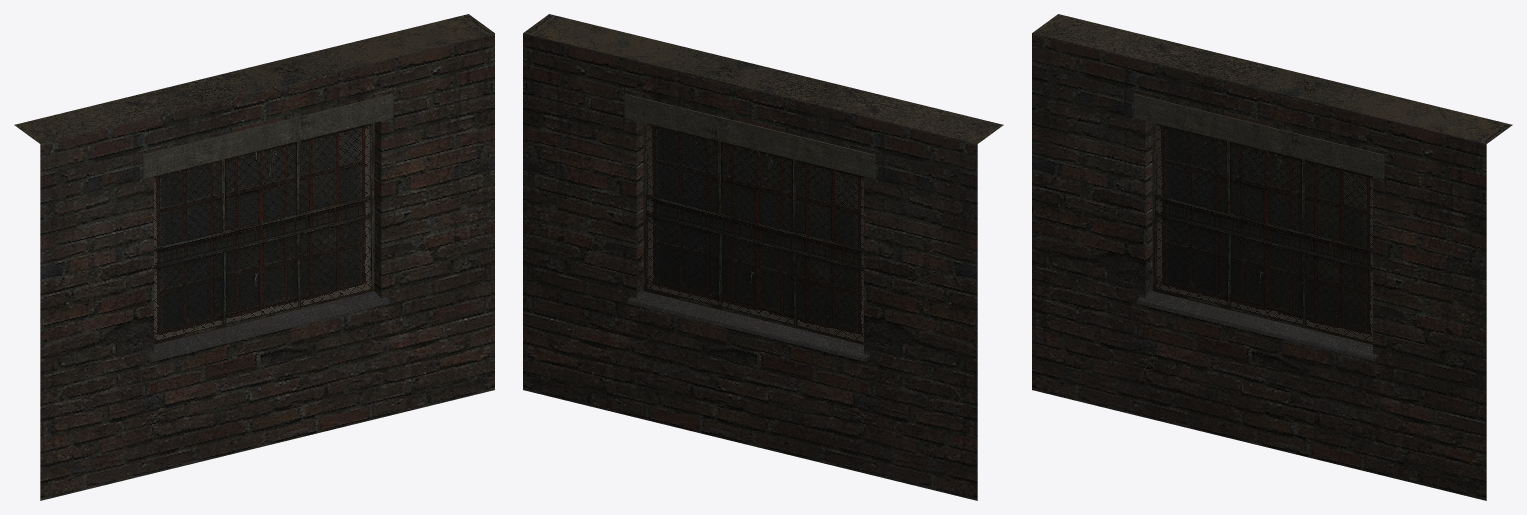
The model's file is window_hs_1.glb.
The picture shows the model from 3 angles, left to right: view 1: azimuth 30°, elevation 25°; view 2: azimuth 150°, elevation 25°; view 3: azimuth 330°, elevation 25°; orthographic projection.
Visible parts, largest first — view 1: window_hs_1; view 2: window_hs_1; view 3: window_hs_1.
Boxes of the visible parts, bbox=[...] form: window_hs_1: bbox=[14, 14, 494, 500]; window_hs_1: bbox=[523, 14, 1003, 500]; window_hs_1: bbox=[1032, 14, 1512, 500].
Bounding box in the file's own units: 4 × 3 × 0.51.
Materials: 5 (5 with a texture image).
